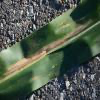Corn leaf blight: (0, 2, 98, 93)
